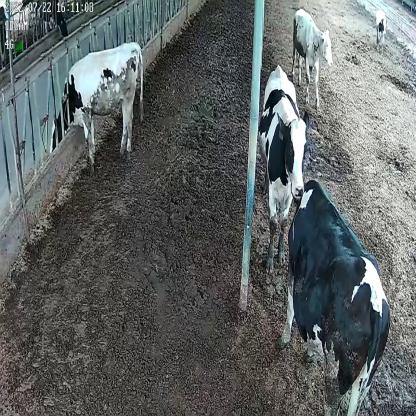cow: (280, 176, 391, 412), (49, 42, 144, 168), (258, 65, 310, 279), (290, 9, 333, 113), (374, 4, 386, 53)
